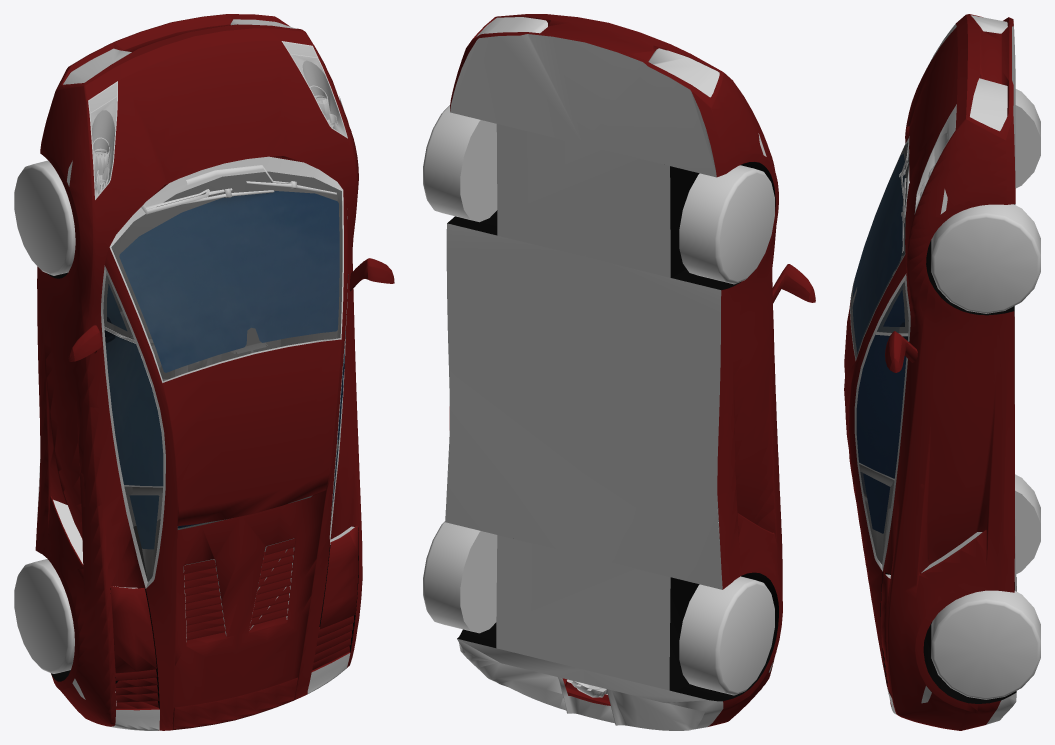
File: lanbo.FBX
3 renders of one model, left to right at view 1: azimuth 30°, elevation 25°; view 2: azimuth 150°, elevation 25°; view 3: azimuth 270°, elevation 25°, orthographic. The views are drawn at different scales.
Visible parts, largest first — view 1: car001, Hood001, Base001, Interior001, frontleft, back left, Body001, Spoiler001, HLightL001, HLightLG001, HLightR001, HLightRG001 (+2 smaller); view 2: car001, Body001, frontleft, back left, frontright, backright; view 3: car001, backright, frontright, Hood001, Body001, Base001, frontleft, back left, Interior001, HLightR001, HLightRG001.
Part boxes in pixels (x1,y1,x2,y2): car001: (35,14,394,730); Hood001: (95,40,352,246); Base001: (101,156,347,641); Interior001: (104,172,342,580); frontleft: (14,160,75,275); back left: (14,559,74,673); Body001: (53,19,354,705); Spoiler001: (172,677,297,729); HLightL001: (89,83,117,197); HLightLG001: (89,83,116,196); HLightR001: (283,42,346,136); HLightRG001: (283,42,345,135); car001: (445,14,815,726); Body001: (457,17,774,730); frontleft: (679,165,774,284); back left: (679,576,774,695); frontright: (423,104,497,222); backright: (423,521,497,633); car001: (844,14,1016,730); backright: (931,590,1040,699); frontright: (931,204,1040,313); Hood001: (905,27,957,253); Body001: (885,15,1016,724); Base001: (850,136,910,571); frontleft: (1015,89,1040,188); back left: (1015,474,1040,573); Interior001: (851,143,908,563); HLightR001: (915,106,956,211); HLightRG001: (915,107,955,210).
Size of the model in its own units: 2433 by 4803 by 1315.
